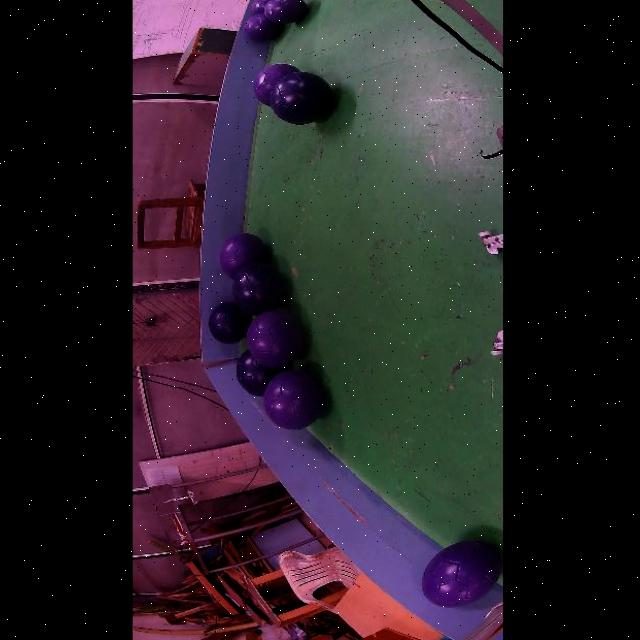B: (270, 73, 332, 125), (232, 263, 285, 316), (236, 350, 291, 396), (208, 302, 249, 343)
P: (422, 541, 502, 608), (263, 371, 323, 430), (246, 310, 303, 369), (219, 234, 267, 279), (253, 63, 297, 106), (244, 13, 283, 42), (263, 0, 307, 25), (252, 0, 270, 14)
